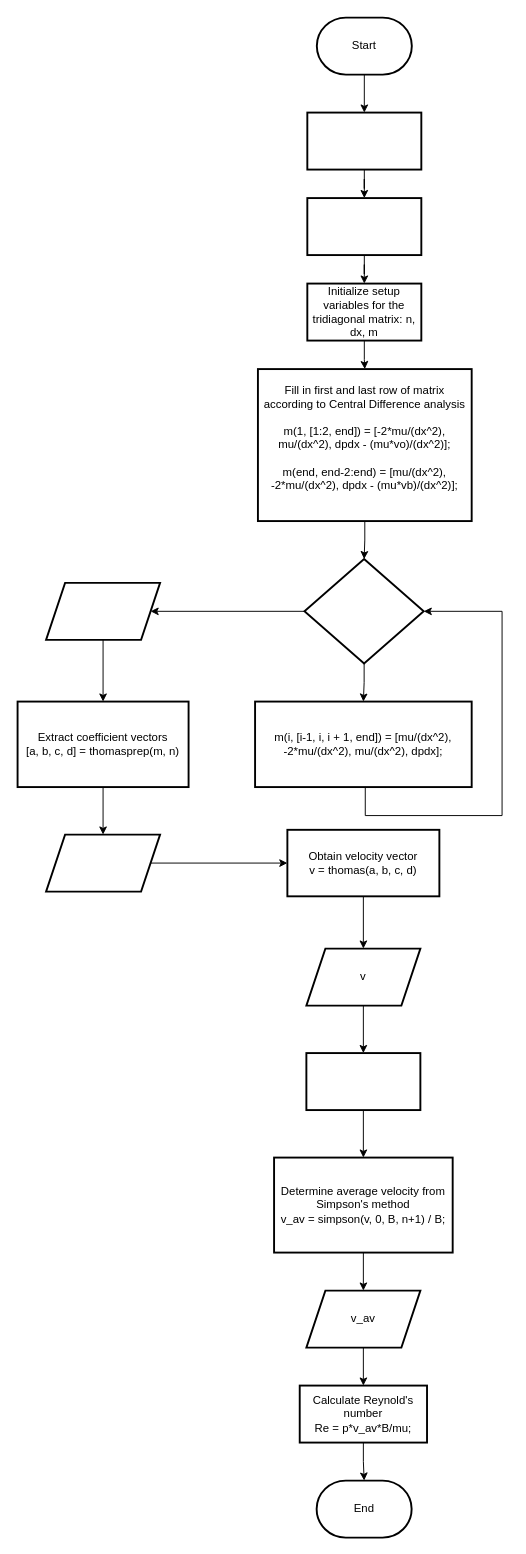
Some shapes in this 526 by 1554 pixel diagram are drawn without their labels. Each missing label, with the centre of its shape:
a, b, c, d: pixel 103 862
for i = 2:n-2: pixel 363 611
Initialize system variables: rho, mu, B: pixel 364 140
m, n: pixel 103 610
Require input from user to obtain vo, vb, and dpdx: pixel 364 226
v = [vo v vb]: pixel 363 1081
